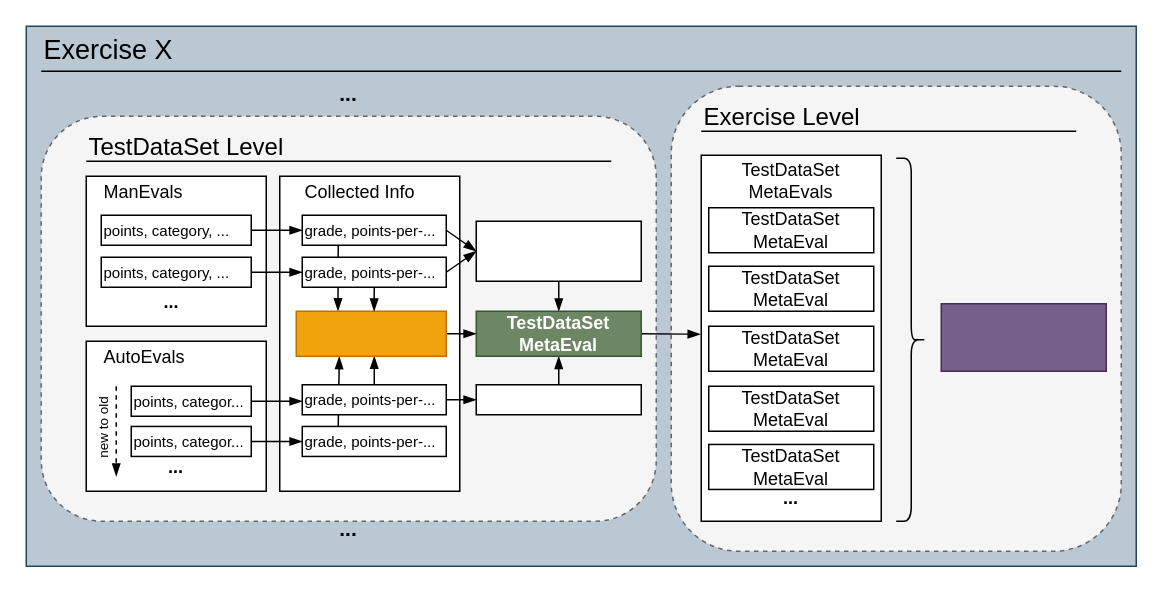
Image size: 1163x593. Some labels were removed from this diagram. The centre of each missing label's shape, as x and y in pixels:
"Average ManEval" goes at point (558, 250).
"Avg. Exercise MetaEval" goes at point (1023, 336).
"Evaluation Stats" goes at point (370, 333).
"Latest AutoEval" goes at point (558, 399).
